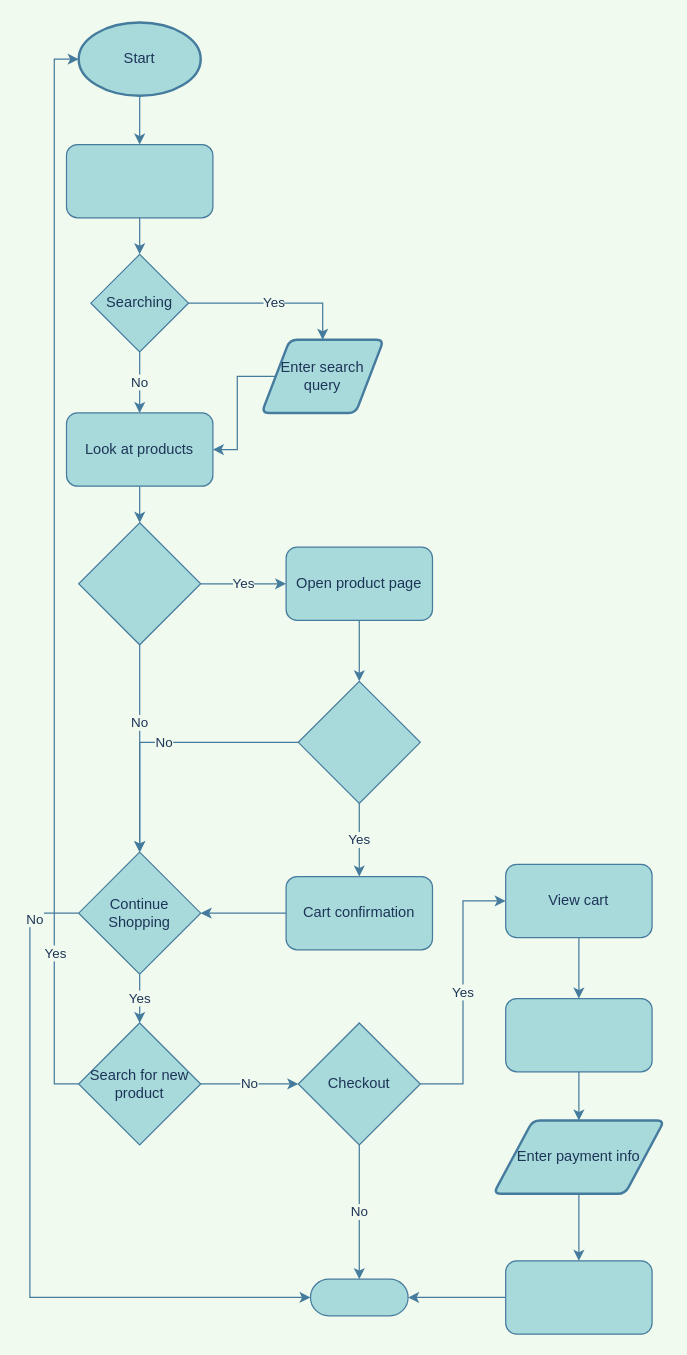
Image size: 687x1355. Some labels were removed from this diagram. The box of each missing label's shape, as (x1, y1, x2, y2) in pixels:
Add to cart: (297, 680, 420, 803)
End: (309, 1278, 408, 1316)
User enters website: (65, 143, 213, 218)
View payment: (504, 997, 652, 1072)
View payment confirmation & email receipt: (504, 1260, 652, 1334)
View specific product: (77, 522, 201, 645)
